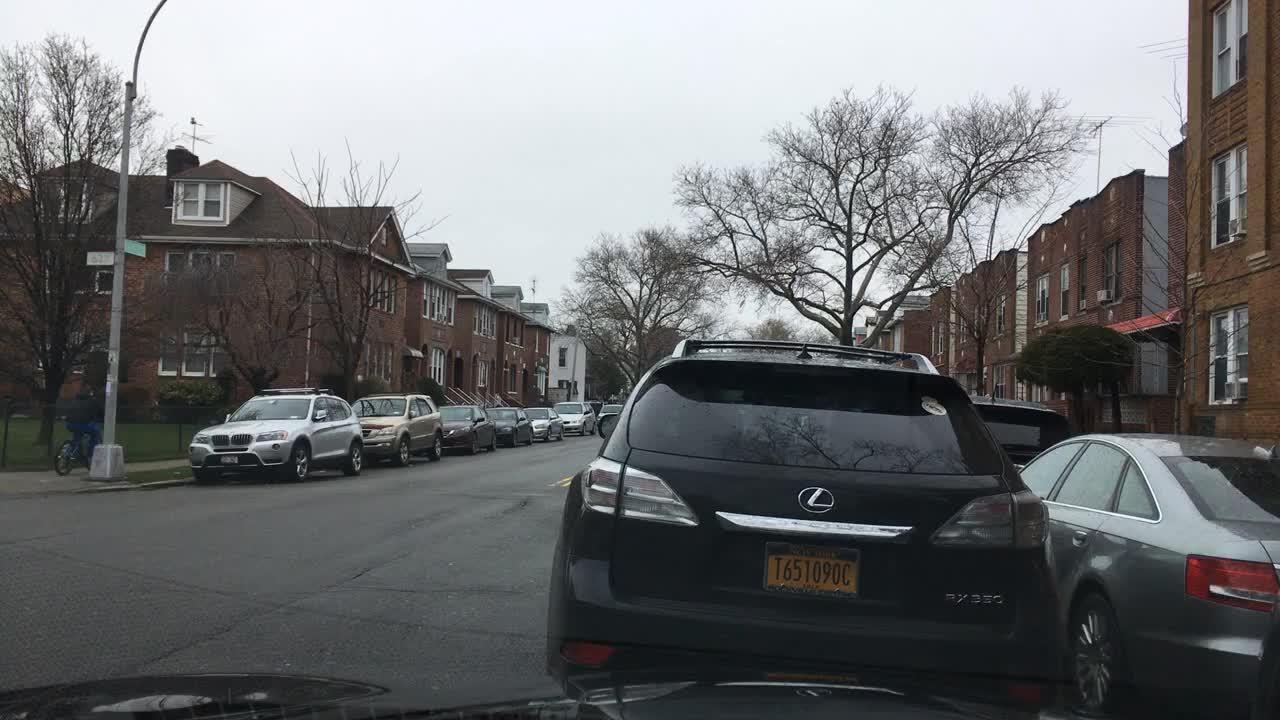lexus: (778, 451, 855, 532)
